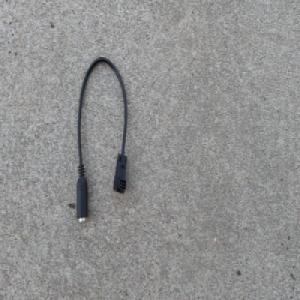Wire: (74, 55, 129, 227)
